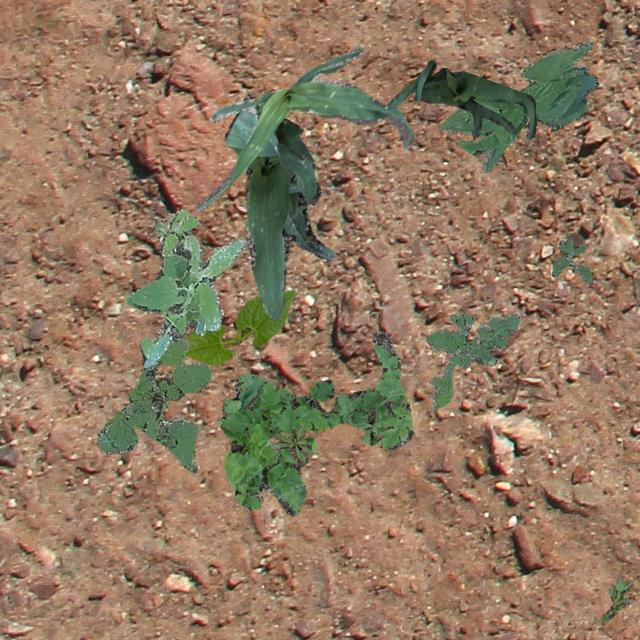crop: (195, 46, 412, 210), (224, 110, 334, 320), (438, 38, 596, 172), (386, 60, 536, 138), (182, 288, 294, 364)
weed: (215, 332, 412, 514), (124, 208, 245, 368), (96, 337, 210, 472), (426, 312, 518, 410), (550, 238, 592, 282), (270, 422, 310, 464), (600, 576, 632, 620)
